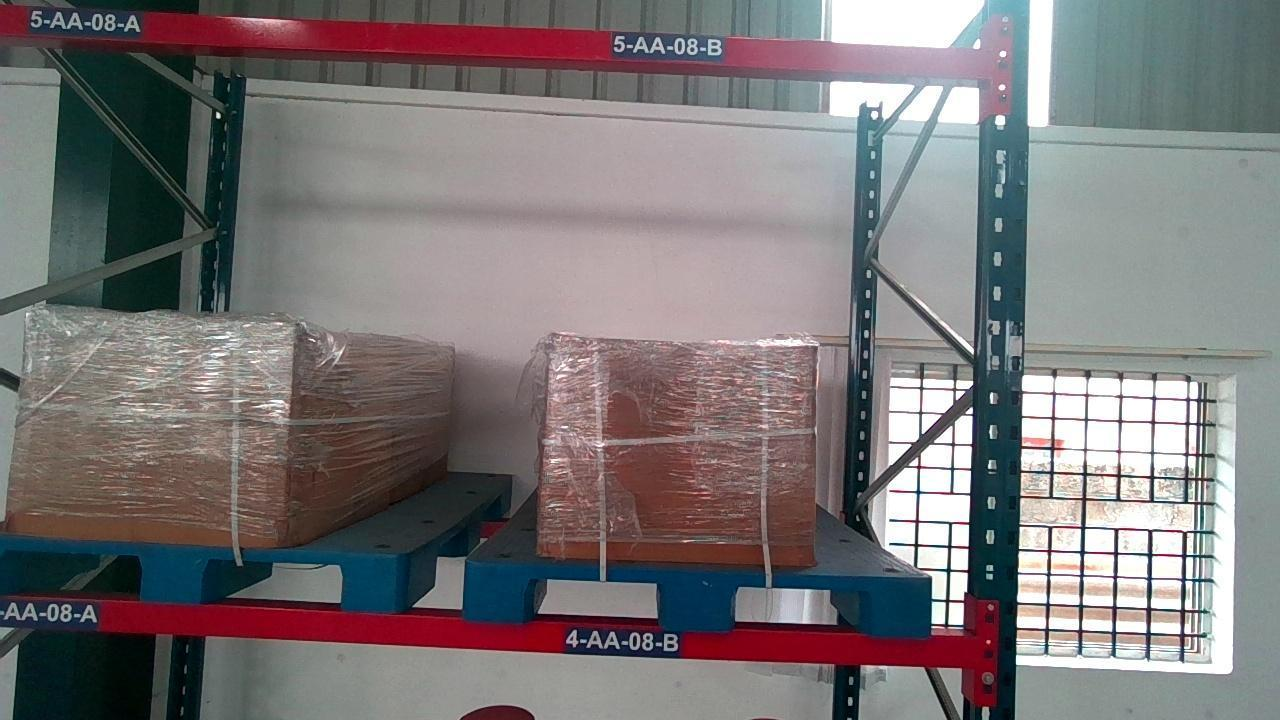h_rack: (0, 4, 993, 81), (2, 596, 991, 667)
small_pallet: (465, 567, 930, 629), (2, 540, 401, 605)
